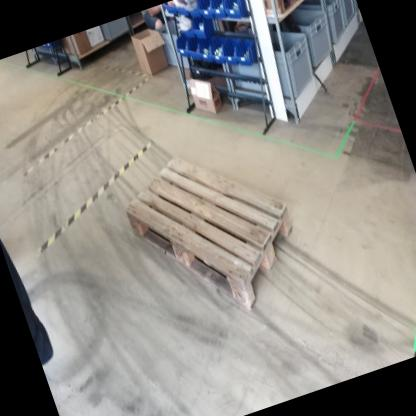BoxFace: (121, 153, 298, 319)
